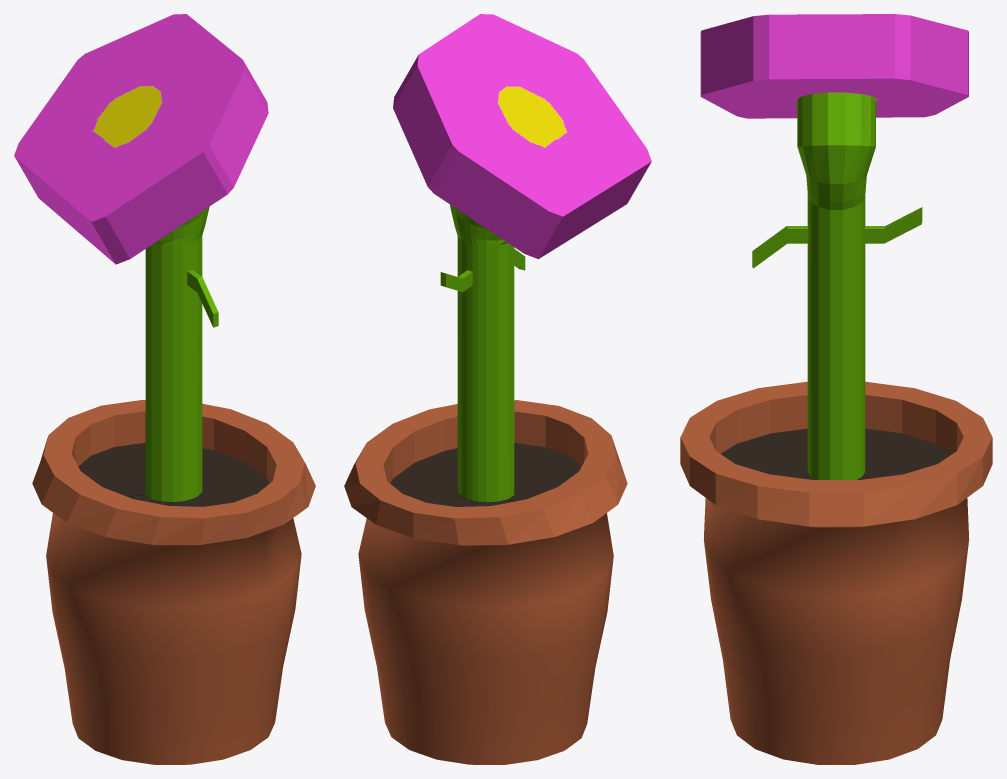
File: Maceta.fbx
3 renders of one model, left to right at view 1: azimuth 30°, elevation 25°; view 2: azimuth 150°, elevation 25°; view 3: azimuth 270°, elevation 25°, orthographic. The views are drawn at different scales.
Parts seen in each view (by area): view 1: Maceta(mapeado)(texturizado); view 2: Maceta(mapeado)(texturizado); view 3: Maceta(mapeado)(texturizado).
Part boxes in pixels (bbox=[...]): Maceta(mapeado)(texturizado): bbox=[14, 14, 315, 764]; Maceta(mapeado)(texturizado): bbox=[344, 14, 651, 764]; Maceta(mapeado)(texturizado): bbox=[680, 14, 992, 764].
Bounding box in the file's own units: 49.51 × 132 × 51.36.
